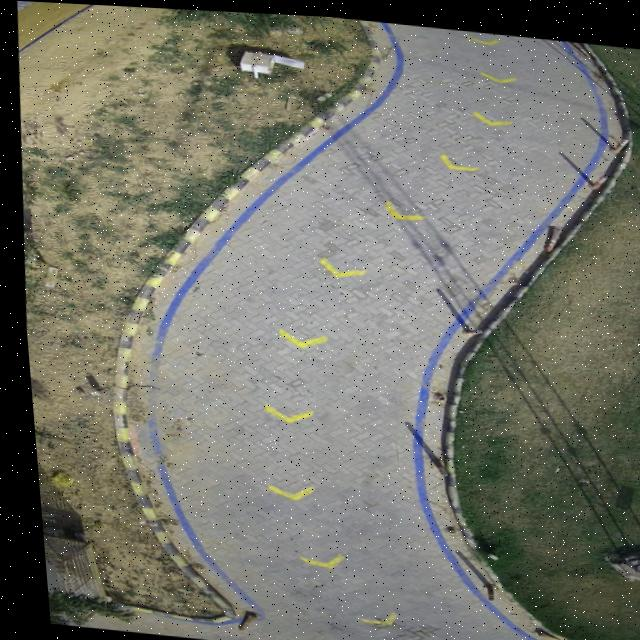No Car: (16, 1, 640, 640)
